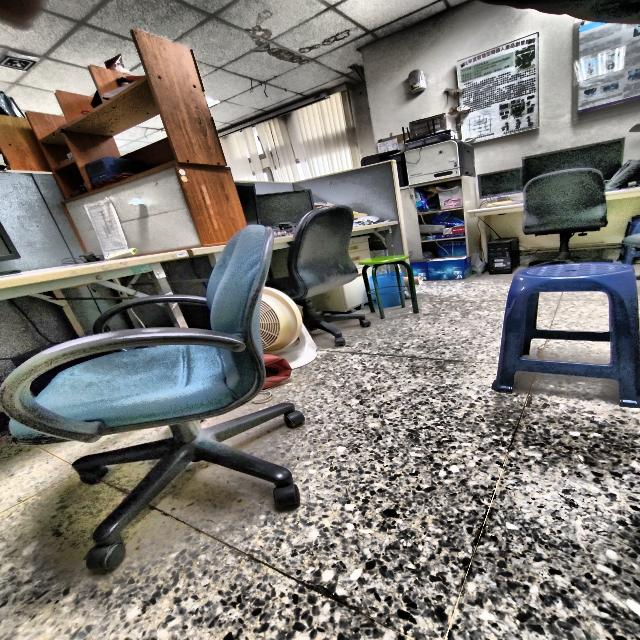cadeira: (0, 222, 310, 577), (492, 257, 640, 411), (293, 197, 376, 347), (519, 166, 618, 265), (359, 239, 429, 324)
